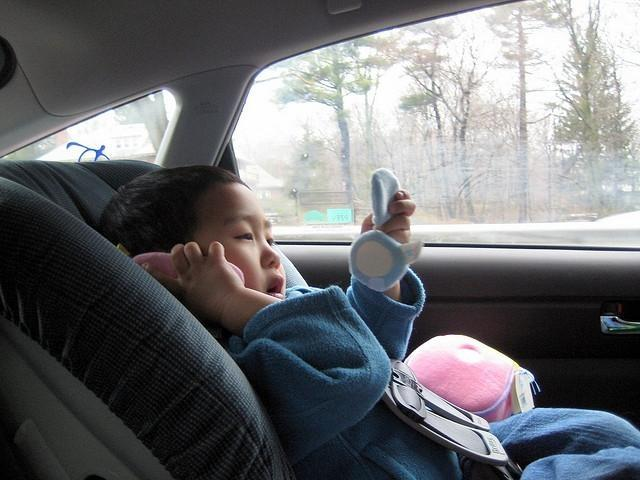car: (0, 0, 640, 476)
